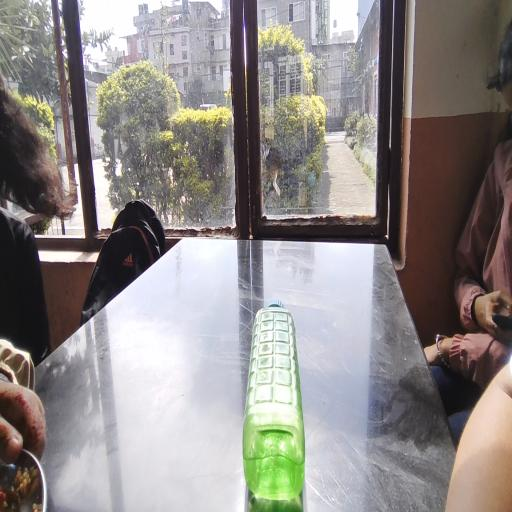Bottle: (244, 270, 306, 512)
